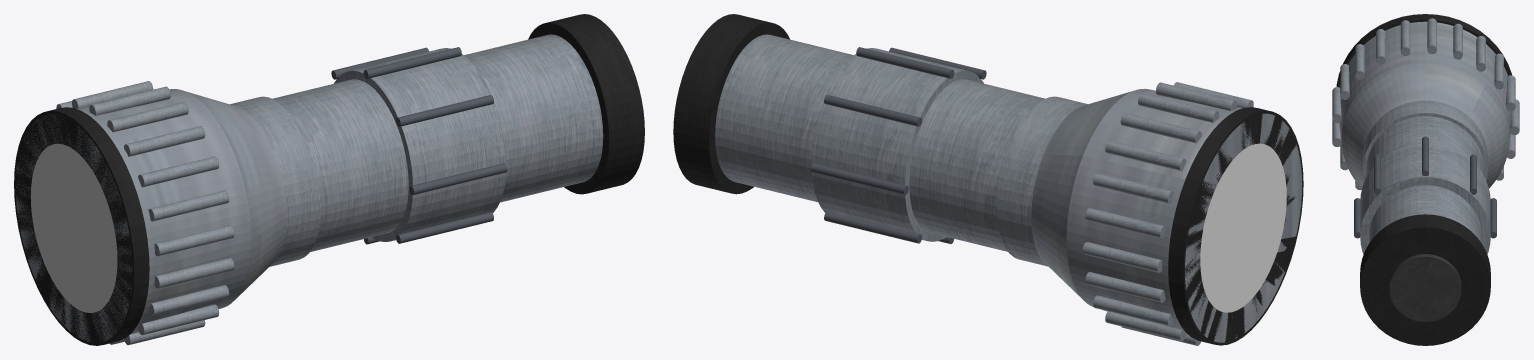
The model's file is Technology_Flashlight__1189.glb.
The picture shows the model from 3 angles, left to right: view 1: azimuth 30°, elevation 25°; view 2: azimuth 150°, elevation 25°; view 3: azimuth 270°, elevation 25°; orthographic projection. The views are drawn at different scales.
Visible parts, largest first — view 1: body::head_shell, body::grip_seg, body::tail_seg, body::mid_seg, body::front_bezel_ring, body::lens_disc, tail_button::tail_cap, body::shoulder_shell, body::lip_seg, body::head_rib_9, body::head_rib_8, body::head_rib_10 (+13 smaller); view 2: body::head_shell, body::grip_seg, body::tail_seg, body::mid_seg, body::lens_disc, body::front_bezel_ring, tail_button::tail_cap, body::shoulder_shell, body::lip_seg, body::head_rib_0, body::head_rib_3, body::head_rib_1 (+13 smaller); view 3: tail_button::tail_cap, body::shoulder_shell, body::grip_seg, body::head_shell, tail_button::rubber_boot, body::tail_seg, body::mid_seg, body::lip_seg, body::front_bezel_ring, body::head_rib_6, body::head_rib_8, body::head_rib_4 (+15 smaller).
Boxes of the visible parts, <box> form: body::head_shell: <box>15,89,251,341</box>; body::grip_seg: <box>334,48,506,241</box>; body::tail_seg: <box>464,34,603,202</box>; body::mid_seg: <box>272,79,408,251</box>; body::front_bezel_ring: <box>14,107,149,345</box>; body::lens_disc: <box>30,143,117,312</box>; tail_button::tail_cap: <box>528,14,644,194</box>; body::shoulder_shell: <box>186,91,286,299</box>; body::lip_seg: <box>230,96,320,266</box>; body::head_rib_9: <box>148,190,229,221</box>; body::head_rib_8: <box>138,156,219,187</box>; body::head_rib_10: <box>154,225,234,256</box>; body::head_shell: <box>1066,89,1301,342</box>; body::grip_seg: <box>811,48,983,241</box>; body::tail_seg: <box>715,34,853,202</box>; body::mid_seg: <box>909,79,1044,251</box>; body::lens_disc: <box>1200,143,1286,312</box>; body::front_bezel_ring: <box>1168,107,1303,345</box>; tail_button::tail_cap: <box>673,14,789,194</box>; body::shoulder_shell: <box>1031,88,1144,298</box>; body::lip_seg: <box>997,96,1087,266</box>; body::head_rib_0: <box>1082,242,1162,272</box>; body::head_rib_3: <box>1105,140,1186,171</box>; body::head_rib_1: <box>1085,208,1165,238</box>; tail_button::tail_cap: <box>1360,214,1490,345</box>; body::shoulder_shell: <box>1341,63,1509,188</box>; body::grip_seg: <box>1360,143,1490,254</box>; body::head_shell: <box>1339,21,1511,188</box>; tail_button::rubber_boot: <box>1389,254,1461,321</box>; body::tail_seg: <box>1369,185,1481,243</box>; body::mid_seg: <box>1366,116,1484,176</box>; body::lip_seg: <box>1363,100,1487,180</box>; body::front_bezel_ring: <box>1336,14,1511,87</box>; body::head_rib_6: <box>1400,20,1410,55</box>; body::head_rib_8: <box>1355,44,1364,79</box>; body::head_rib_4: <box>1453,23,1462,59</box>.
Bounding box in the file's own units: 0.2095 × 0.0856 × 0.0853.
7 materials, 6 textured.
